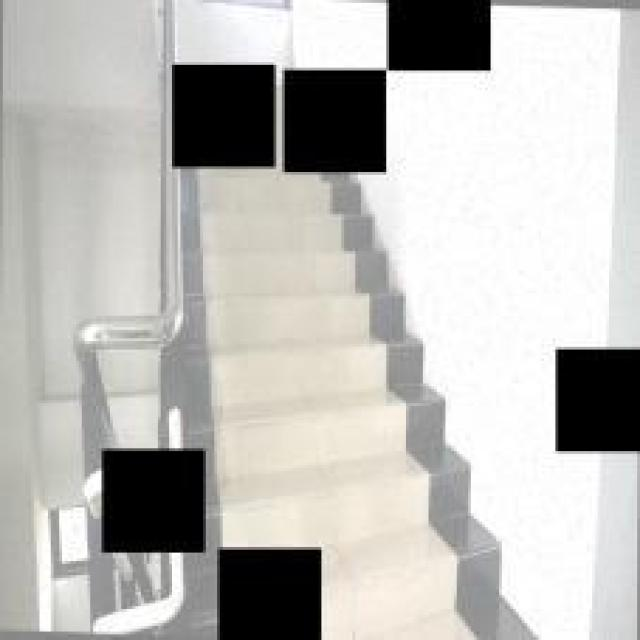upstair: (196, 179, 416, 438)
